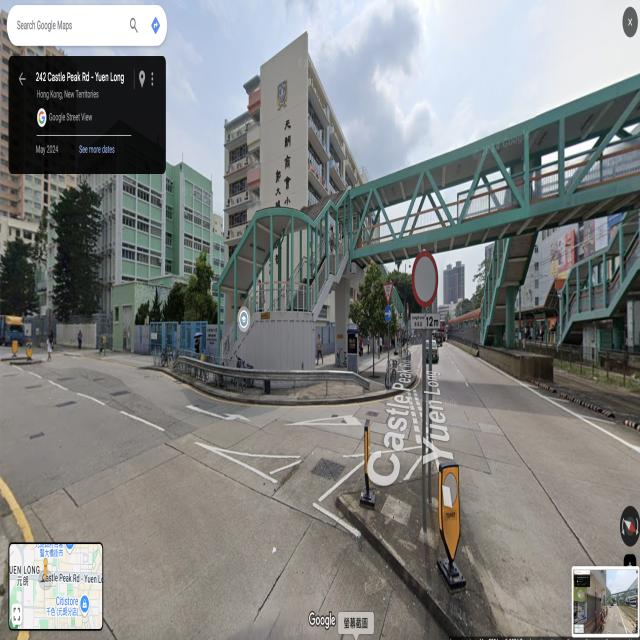Order-Sign: (413, 253, 438, 305), (411, 314, 440, 328), (384, 306, 392, 321)
Warning-Sign: (383, 282, 392, 301)
